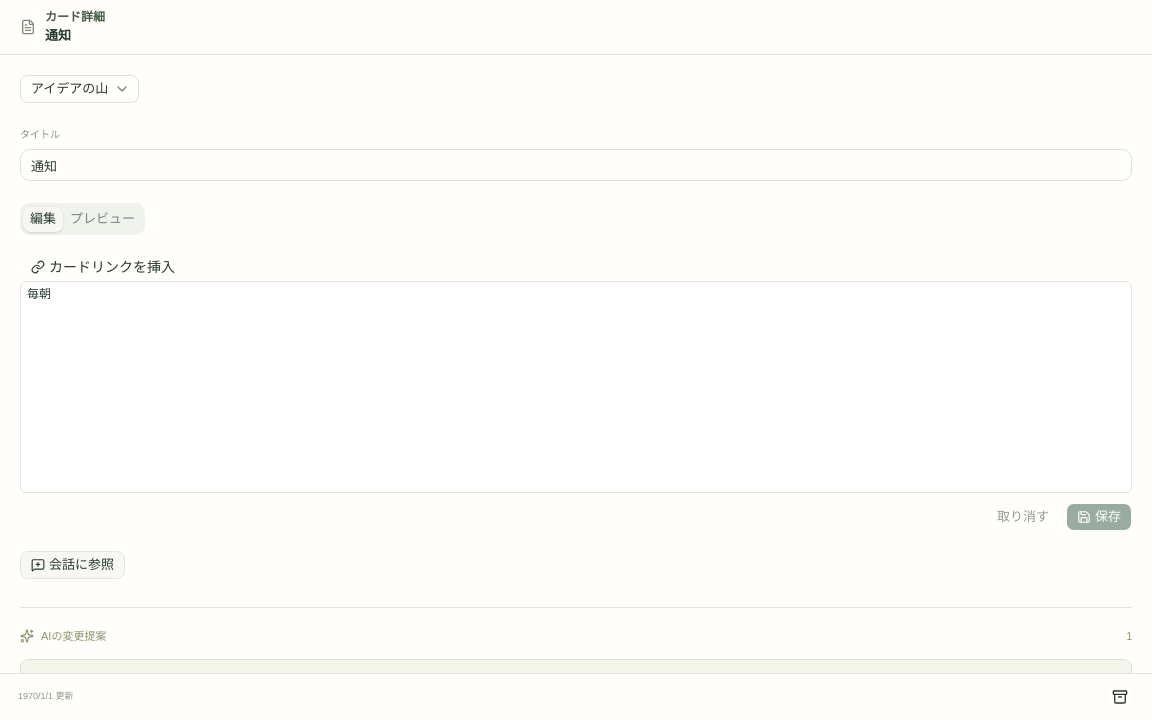
Test: attaches the saved card and disables proposal apply while there is an unsaved draft
Click the button "会話に参照" at [72, 565], box [20,551,125,579]
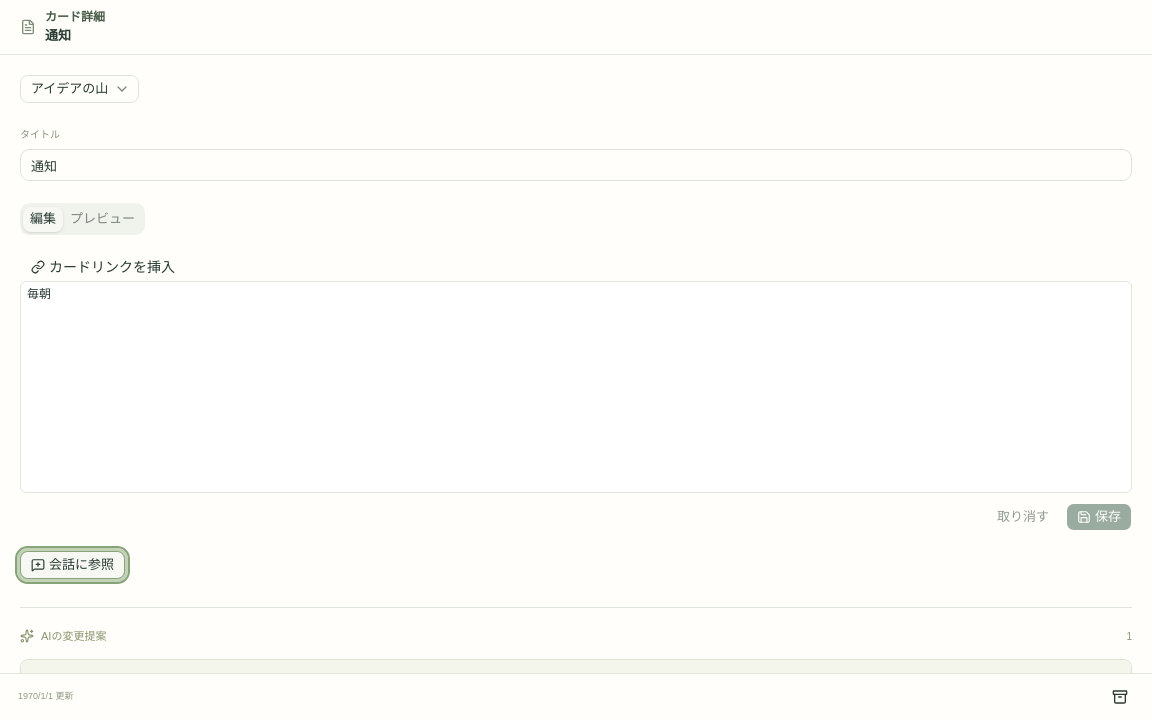
Type "の予定" into the field named "カード本文" at [39, 294], box [27,287,51,301]
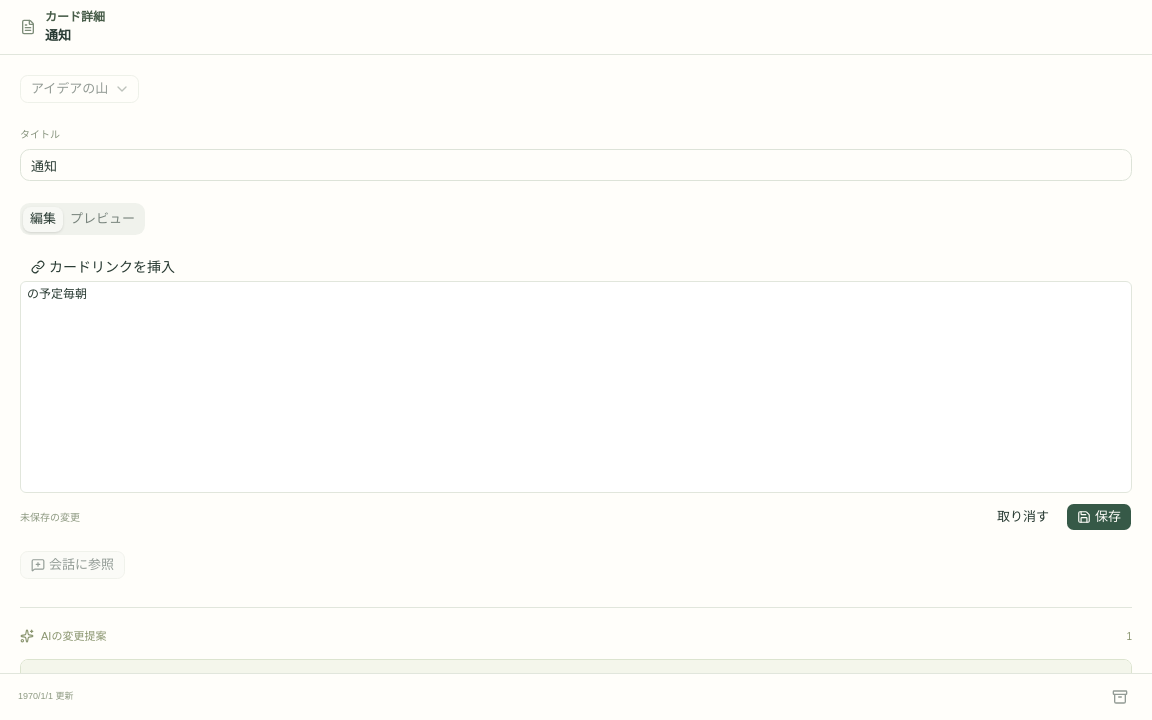
Expected: the button "会話に参照" is disabled, [20,551,125,579]
